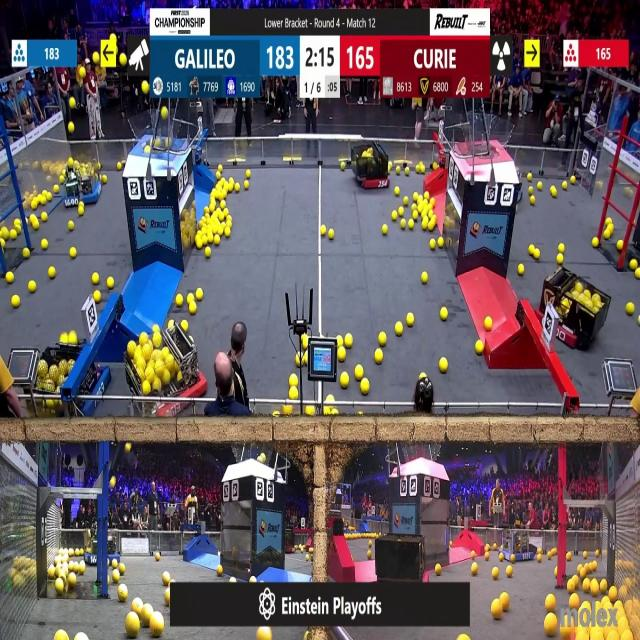ball_airborne: (162, 106, 169, 119), (142, 83, 149, 96), (78, 67, 85, 79), (68, 120, 75, 132), (118, 55, 125, 67), (70, 95, 76, 108), (94, 54, 100, 65), (144, 145, 150, 153)
ball_ground: (127, 616, 141, 638), (150, 616, 164, 638), (544, 616, 556, 638), (544, 594, 554, 612), (491, 601, 501, 619), (499, 594, 508, 612), (118, 586, 128, 602), (590, 582, 600, 596), (57, 580, 66, 595), (360, 380, 369, 394), (567, 580, 576, 594), (376, 349, 384, 364), (441, 357, 449, 372), (608, 587, 616, 602), (355, 365, 363, 379), (570, 595, 578, 609), (57, 630, 68, 640), (342, 374, 349, 389), (346, 336, 354, 349), (164, 571, 172, 584), (380, 334, 388, 347), (339, 348, 347, 361), (627, 303, 635, 316), (165, 590, 172, 604), (143, 382, 150, 396), (407, 314, 415, 326), (194, 288, 202, 300), (11, 295, 19, 307), (194, 238, 202, 250), (68, 572, 76, 584), (176, 293, 183, 306), (475, 342, 482, 355), (283, 407, 292, 417), (289, 376, 297, 387), (188, 304, 196, 315), (395, 322, 402, 334), (95, 290, 102, 302), (29, 281, 36, 293), (303, 337, 309, 351), (181, 320, 188, 332), (133, 600, 140, 612), (78, 562, 85, 574), (207, 234, 214, 246), (584, 581, 591, 593), (289, 388, 297, 398), (307, 408, 315, 418), (630, 261, 638, 271), (112, 571, 120, 581), (420, 219, 428, 229), (442, 308, 448, 321), (107, 278, 114, 289), (434, 564, 441, 575), (24, 248, 31, 259), (421, 273, 428, 284), (93, 274, 100, 285), (187, 292, 194, 303), (557, 253, 564, 264), (140, 334, 147, 345), (6, 273, 12, 285), (486, 318, 492, 330), (534, 248, 540, 260), (48, 567, 54, 579), (492, 568, 499, 578), (618, 241, 625, 251), (68, 220, 75, 230), (33, 220, 40, 230), (213, 236, 220, 246), (1, 230, 8, 240), (61, 335, 68, 345), (48, 268, 54, 279), (518, 266, 524, 277), (506, 566, 512, 577), (338, 337, 344, 348), (226, 183, 232, 194), (75, 634, 86, 640), (326, 394, 333, 403), (417, 166, 424, 175), (42, 240, 48, 250), (217, 565, 223, 575), (593, 238, 599, 248), (471, 563, 476, 575), (70, 248, 76, 258), (409, 219, 415, 229), (78, 206, 84, 216), (382, 224, 388, 234), (439, 238, 445, 248), (528, 246, 534, 256), (430, 240, 436, 250), (205, 247, 211, 257), (428, 220, 434, 230), (400, 219, 406, 229), (551, 186, 557, 196), (118, 564, 124, 574), (220, 190, 227, 198), (394, 186, 400, 195), (244, 180, 250, 189), (42, 213, 48, 222), (327, 231, 333, 240), (10, 232, 16, 241), (562, 181, 568, 190), (558, 244, 564, 253), (0, 240, 6, 249), (566, 553, 572, 562), (413, 191, 419, 200), (459, 634, 468, 640), (224, 215, 230, 224), (32, 201, 38, 210), (320, 224, 325, 234), (405, 198, 410, 208), (14, 218, 19, 228), (115, 164, 122, 171), (604, 232, 610, 240), (154, 554, 160, 562), (250, 575, 256, 583), (413, 212, 419, 220), (220, 202, 226, 210), (246, 171, 252, 179), (111, 560, 117, 568), (45, 192, 51, 200), (324, 408, 330, 416), (216, 172, 222, 180), (429, 200, 435, 208), (417, 203, 423, 211), (224, 230, 229, 239), (530, 197, 535, 206), (512, 555, 517, 564), (108, 575, 113, 584), (219, 212, 224, 221), (331, 409, 337, 416), (231, 576, 237, 583), (528, 186, 534, 193), (55, 185, 61, 192), (342, 161, 347, 169), (499, 554, 504, 562), (236, 183, 241, 191), (570, 176, 575, 184), (398, 208, 403, 216), (636, 270, 640, 280), (392, 212, 397, 220), (527, 173, 532, 181), (403, 168, 408, 176), (428, 210, 433, 218), (223, 208, 228, 216), (152, 324, 157, 332), (169, 320, 174, 328), (366, 552, 371, 560), (217, 165, 222, 173), (295, 357, 299, 366), (274, 412, 280, 418), (485, 553, 490, 560), (424, 191, 429, 198), (103, 176, 108, 183), (547, 553, 552, 560), (205, 207, 210, 214), (537, 182, 541, 190), (555, 568, 559, 576), (537, 555, 541, 563), (470, 552, 475, 558), (485, 543, 490, 549), (396, 168, 400, 175), (596, 551, 600, 558), (421, 369, 425, 376), (358, 413, 363, 418), (307, 556, 310, 561)
goal: (460, 118, 517, 158), (128, 115, 187, 152)
robot_blue: (34, 334, 110, 416), (63, 157, 101, 205), (82, 526, 120, 568), (500, 522, 535, 562)
robot_red: (122, 331, 202, 416), (544, 274, 610, 350), (351, 142, 388, 190), (284, 531, 298, 552)
